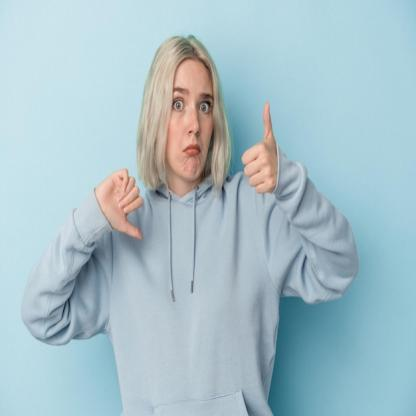thumb_down: (95, 165, 147, 243)
thumb_up: (240, 98, 282, 198)
